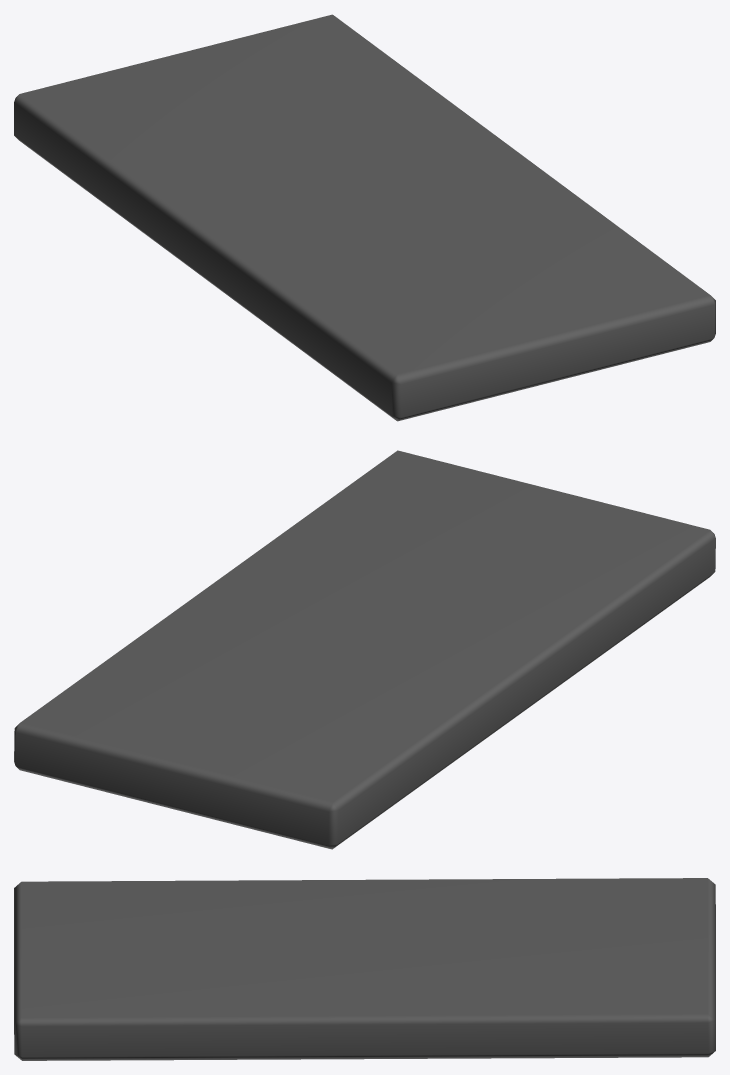
File: Childroom2_Mattress.fbx
3 views of the same model, one above another, from view 1: azimuth 30°, elevation 25°; view 2: azimuth 150°, elevation 25°; view 3: azimuth 270°, elevation 25° (orthographic). The views are drawn at different scales.
Parts seen in each view (by area): view 1: Childroom2_Mattress; view 2: Childroom2_Mattress; view 3: Childroom2_Mattress.
Boxes of the visible parts, left/top/right/bottom form: Childroom2_Mattress: left=14, top=14, right=715, bottom=421; Childroom2_Mattress: left=14, top=450, right=715, bottom=849; Childroom2_Mattress: left=14, top=878, right=715, bottom=1060.
Size of the model in its own units: 138 by 22.17 by 284.
